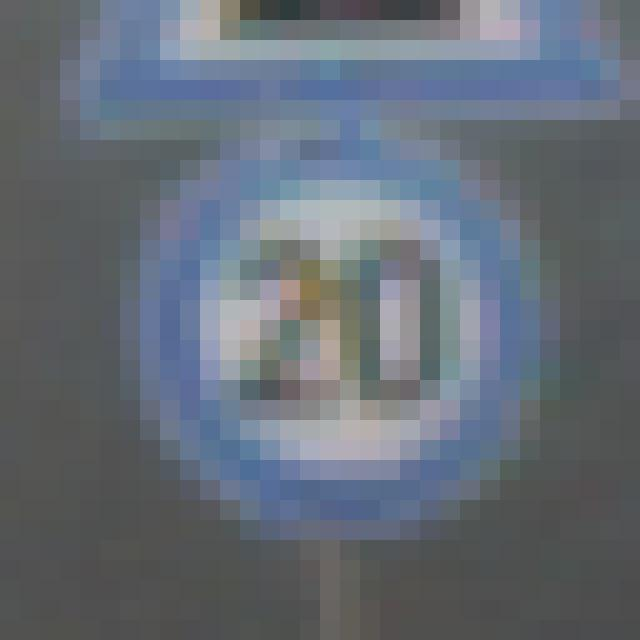SPEED LIMIT 20: (149, 145, 561, 528)
